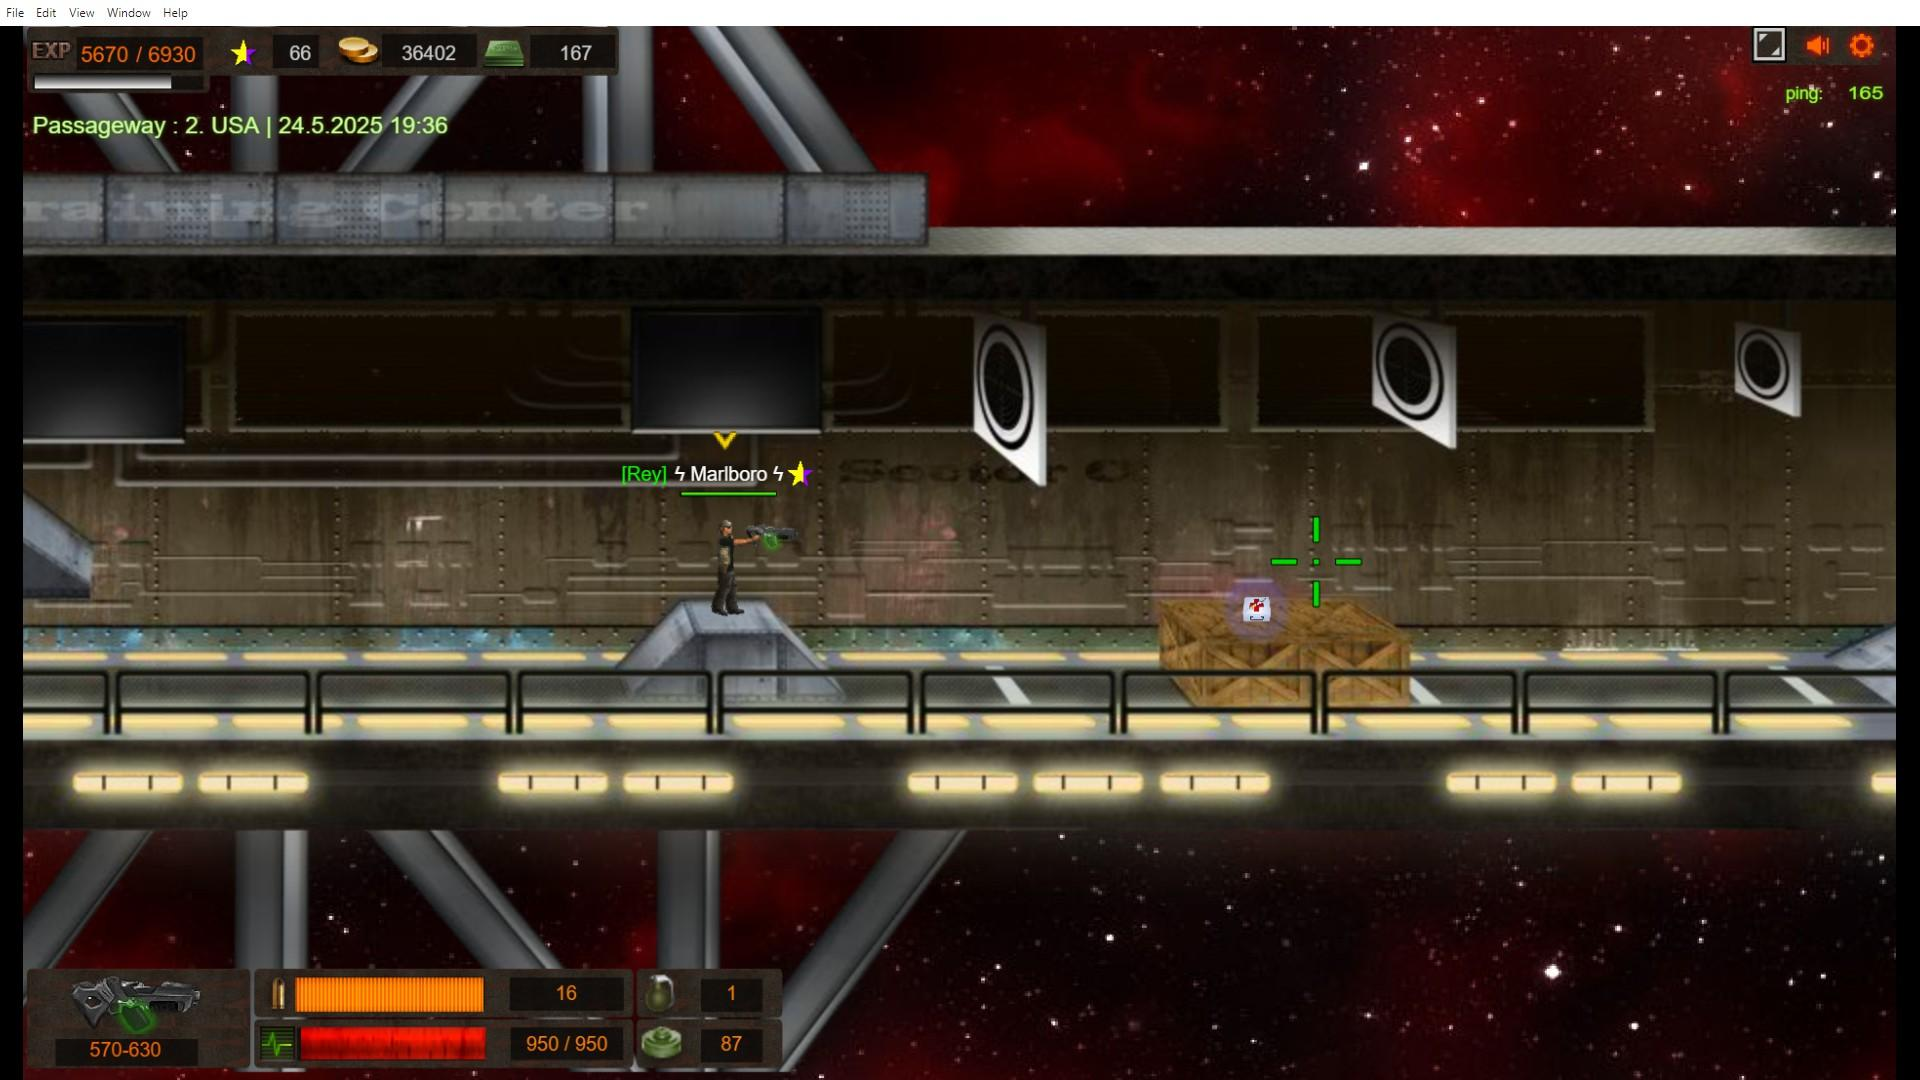enemy: (713, 521, 748, 618)
